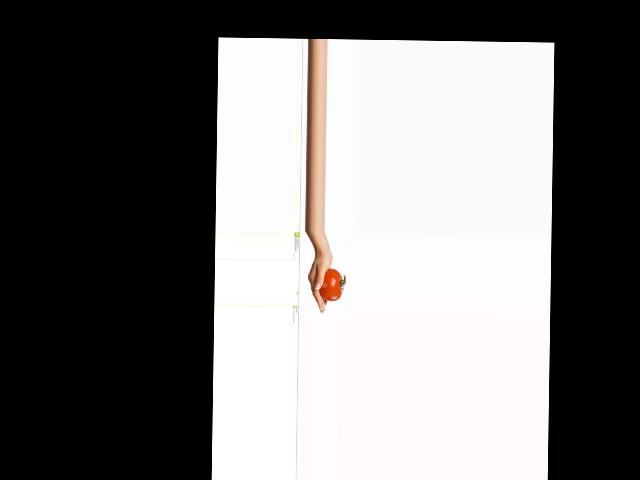tomato: (319, 268, 341, 301)
